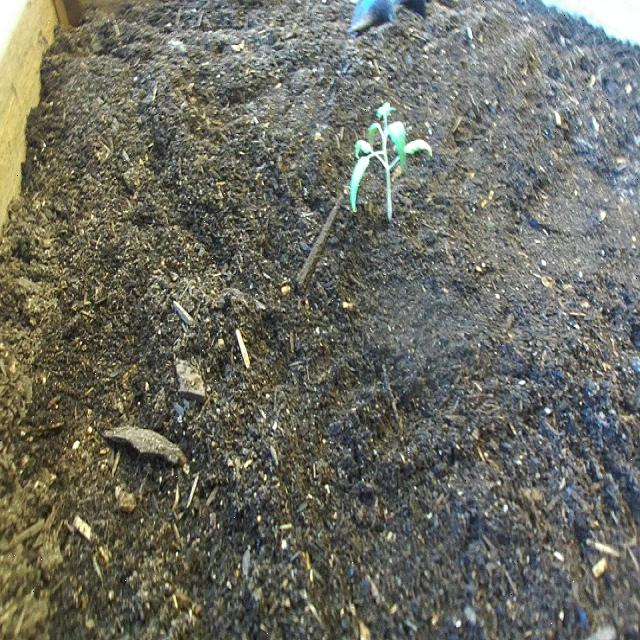Healthy: (344, 98, 436, 227)
